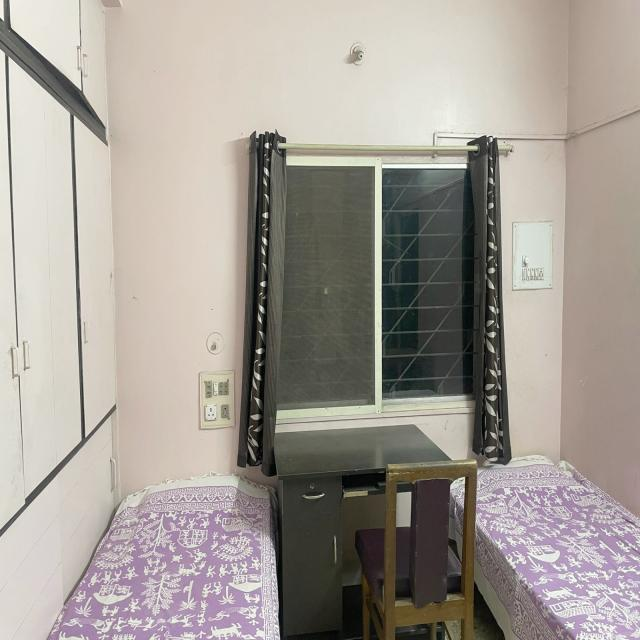Non_Damaged: (4, 3, 639, 640)
